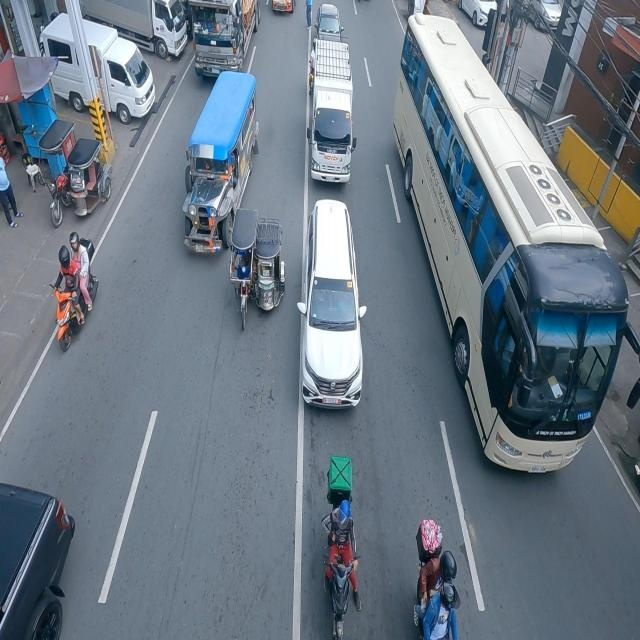Bus: (392, 12, 628, 478)
Truck: (191, 0, 261, 81)
Van: (296, 197, 366, 409)
